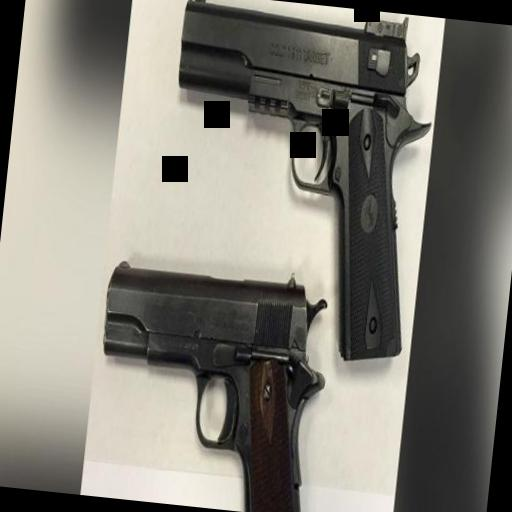Handgun: (143, 0, 438, 369), (81, 251, 341, 512)
